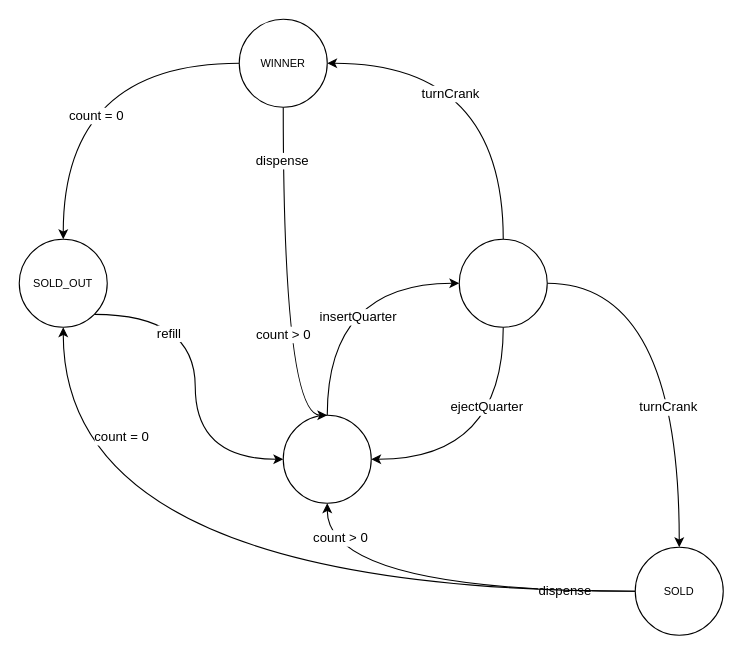
Image size: 743x655. Some labels were removed from this diagram. Here are the shapes that lost their labels. From the top down, the box of each, then its label:
(458, 238, 547, 327): HAS_QUARTER
(282, 414, 371, 503): NO_QUARTER
